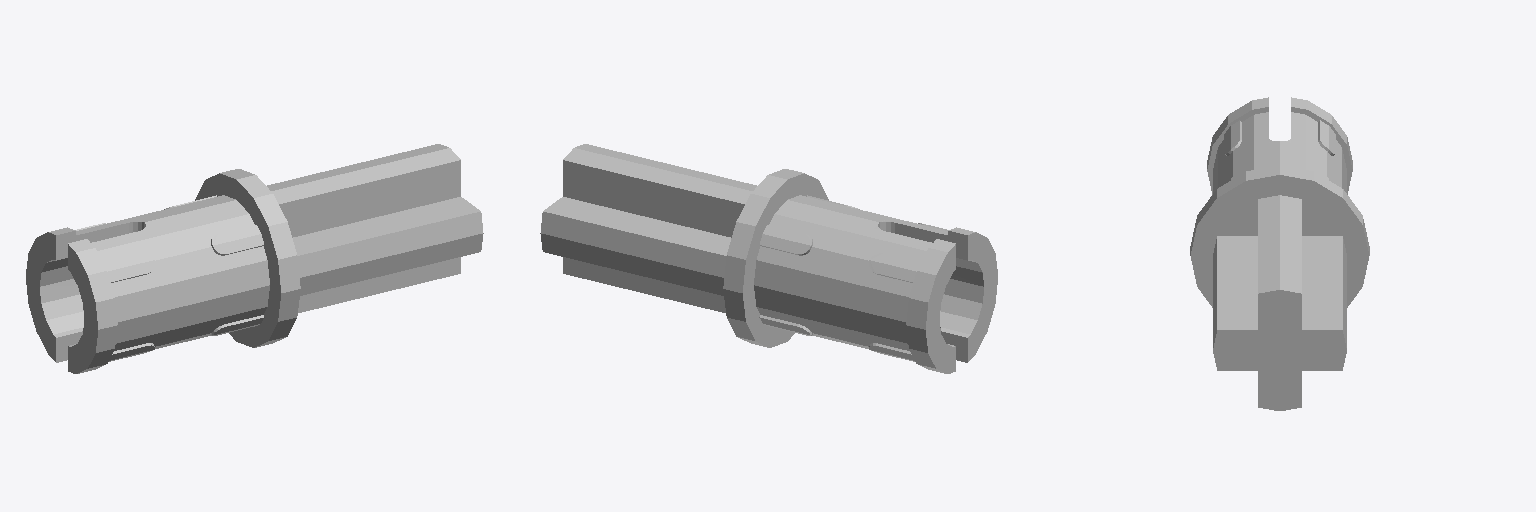
File: Piece007.obj
The picture shows the model from 3 angles: view 1: azimuth 30°, elevation 25°; view 2: azimuth 150°, elevation 25°; view 3: azimuth 270°, elevation 25°; orthographic projection.
Parts seen in each view (by area): view 1: Piece000; view 2: Piece000; view 3: Piece000.
Part boxes in pixels (x1,y1,x2,y2): Piece000: (26, 144, 483, 373); Piece000: (540, 144, 997, 373); Piece000: (1190, 97, 1369, 410).
Size of the model in its own units: 40 by 16 by 16.